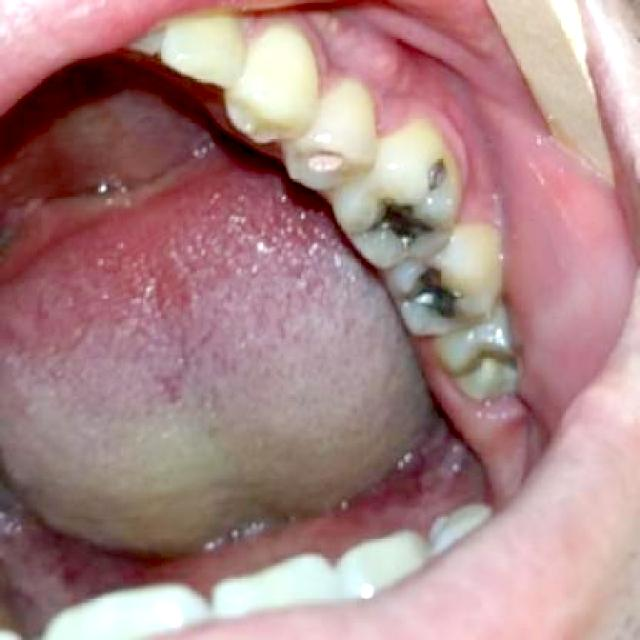Plaque: (451, 338, 514, 402)
